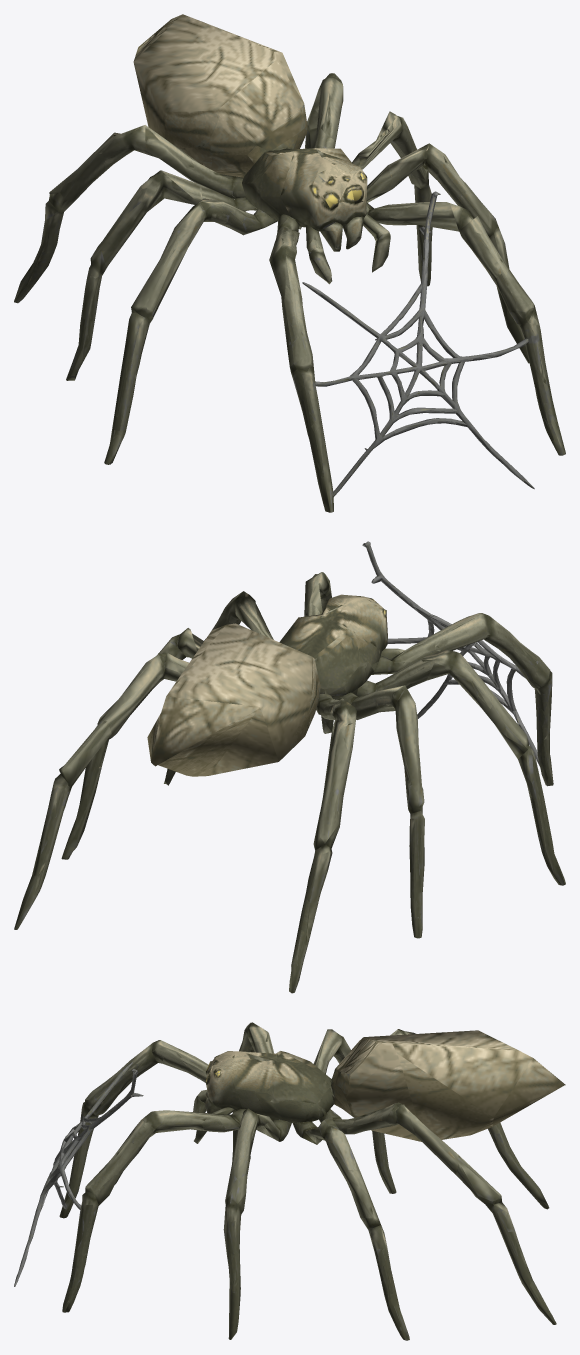
Rendered from web_spinner.glb.
The picture shows the model from 3 angles, top to bottom: view 1: azimuth 30°, elevation 25°; view 2: azimuth 150°, elevation 25°; view 3: azimuth 270°, elevation 25°; orthographic projection. The views are drawn at different scales.
Visible parts, largest first — view 1: Mesh_0; view 2: Mesh_0; view 3: Mesh_0.
Part boxes in pixels (left/top/right/bottom): Mesh_0: left=14, top=14, right=565, bottom=512; Mesh_0: left=14, top=541, right=565, bottom=993; Mesh_0: left=14, top=1022, right=565, bottom=1340.
Size of the model in its own units: 1.41 by 0.8794 by 1.9.
1 material, 1 textured.
